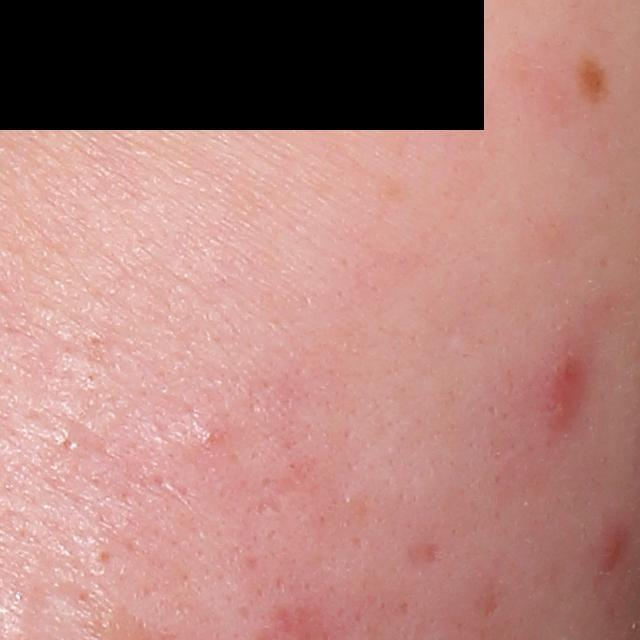atrophic_scar: (409, 540, 446, 568), (480, 586, 504, 620)
comedo: (89, 546, 113, 566)
melasma: (573, 51, 617, 112)
papule: (598, 534, 625, 570)
